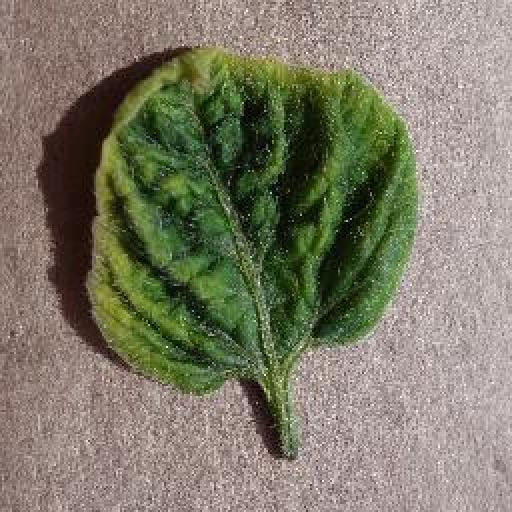Yellow Leaf Curl Virus: (85, 46, 416, 394)
